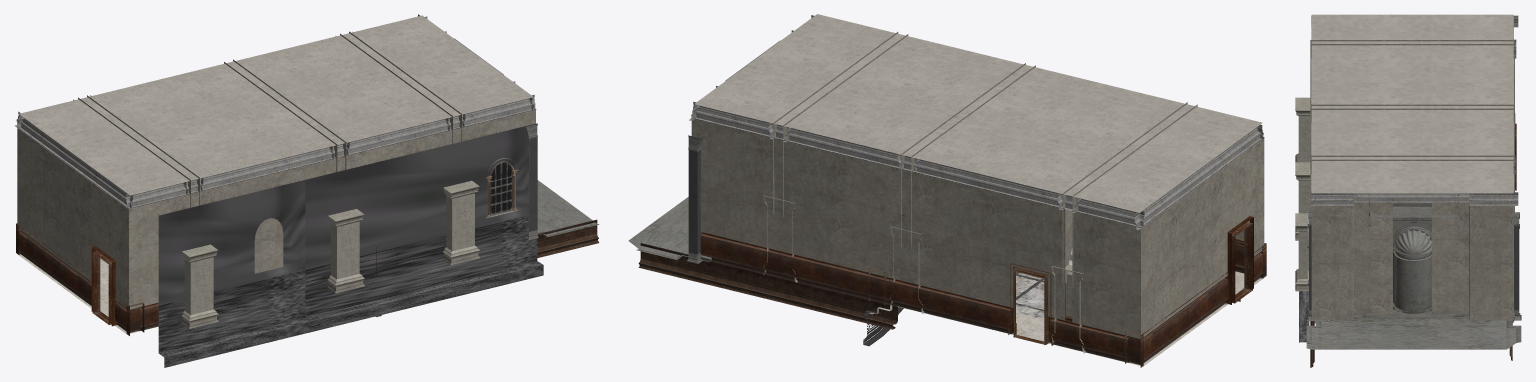
3 views of the same model, side by side, from view 1: azimuth 30°, elevation 25°; view 2: azimuth 150°, elevation 25°; view 3: azimuth 270°, elevation 25° (orthographic). The views are drawn at different scales.
Visible parts, largest first — view 1: LOD_1_Group_0_Sub_7__Wall_Mat, LOD_1_Group_0_Sub_4__st2_police2fLeftCeiling01, LOD_1_Group_0_Sub_1__st4_policeHallWall01_MAT, LOD_1_Group_0_Sub_5__st4_policeHallPillar02_MAT, LOD_1_Group_0_Sub_3__st2_policeHallWall12, LOD_1_Group_0_Sub_2__st2_police2fLeftWall08, LOD_1_Group_0_Sub_12__st2_policeHallStatue01, LOD_1_Group_0_Sub_6__st4_policeHallPillar01_MAT, LOD_1_Group_0_Sub_11__st2_police2fLeftDoor01, LOD_1_Group_0_Sub_9__st2_police1fLeftWindow01_G, LOD_1_Group_0_Sub_19__st4_police1fLeftFloor01, LOD_1_Group_0_Sub_8__st2_police1fLeftPillar01; view 2: LOD_1_Group_0_Sub_1__st4_policeHallWall01_MAT, LOD_1_Group_0_Sub_4__st2_police2fLeftCeiling01, LOD_1_Group_0_Sub_2__st2_police2fLeftWall08, LOD_1_Group_0_Sub_3__st2_policeHallWall12, LOD_1_Group_0_Sub_6__st4_policeHallPillar01_MAT, LOD_1_Group_0_Sub_12__st2_policeHallStatue01, LOD_1_Group_0_Sub_11__st2_police2fLeftDoor01, LOD_1_Group_0_Sub_19__st4_police1fLeftFloor01, LOD_1_Group_0_Sub_18__st2_police1fRightFloor13_Mat, LOD_1_Group_0_Sub_5__st4_policeHallPillar02_MAT, LOD_1_Group_0_Sub_10__st2_police1fLeftDoor02; view 3: LOD_1_Group_0_Sub_4__st2_police2fLeftCeiling01, LOD_1_Group_0_Sub_1__st4_policeHallWall01_MAT, LOD_1_Group_0_Sub_12__st2_policeHallStatue01, LOD_1_Group_0_Sub_3__st2_policeHallWall12, LOD_1_Group_0_Sub_5__st4_policeHallPillar02_MAT, LOD_1_Group_0_Sub_7__Wall_Mat.
Boxes of the visible parts, left/top/right/bottom form: LOD_1_Group_0_Sub_7__Wall_Mat: left=158, top=123, right=543, bottom=367; LOD_1_Group_0_Sub_4__st2_police2fLeftCeiling01: left=19, top=15, right=533, bottom=195; LOD_1_Group_0_Sub_1__st4_policeHallWall01_MAT: left=17, top=31, right=535, bottom=309; LOD_1_Group_0_Sub_5__st4_policeHallPillar02_MAT: left=181, top=180, right=479, bottom=329; LOD_1_Group_0_Sub_3__st2_policeHallWall12: left=14, top=14, right=536, bottom=209; LOD_1_Group_0_Sub_2__st2_police2fLeftWall08: left=16, top=223, right=376, bottom=335; LOD_1_Group_0_Sub_12__st2_policeHallStatue01: left=454, top=38, right=599, bottom=240; LOD_1_Group_0_Sub_6__st4_policeHallPillar01_MAT: left=537, top=219, right=599, bottom=257; LOD_1_Group_0_Sub_11__st2_police2fLeftDoor01: left=91, top=246, right=117, bottom=326; LOD_1_Group_0_Sub_9__st2_police1fLeftWindow01_G: left=490, top=162, right=512, bottom=214; LOD_1_Group_0_Sub_19__st4_police1fLeftFloor01: left=18, top=254, right=157, bottom=334; LOD_1_Group_0_Sub_8__st2_police1fLeftPillar01: left=485, top=158, right=519, bottom=219; LOD_1_Group_0_Sub_1__st4_policeHallWall01_MAT: left=691, top=32, right=1264, bottom=338; LOD_1_Group_0_Sub_4__st2_police2fLeftCeiling01: left=694, top=14, right=1262, bottom=212; LOD_1_Group_0_Sub_2__st2_police2fLeftWall08: left=700, top=228, right=1266, bottom=367; LOD_1_Group_0_Sub_3__st2_policeHallWall12: left=689, top=15, right=1264, bottom=229; LOD_1_Group_0_Sub_6__st4_policeHallPillar01_MAT: left=638, top=243, right=1065, bottom=329; LOD_1_Group_0_Sub_12__st2_policeHallStatue01: left=628, top=40, right=780, bottom=264; LOD_1_Group_0_Sub_11__st2_police2fLeftDoor01: left=1225, top=216, right=1253, bottom=304; LOD_1_Group_0_Sub_19__st4_police1fLeftFloor01: left=877, top=248, right=1263, bottom=366; LOD_1_Group_0_Sub_18__st2_police1fRightFloor13_Mat: left=868, top=272, right=1044, bottom=319; LOD_1_Group_0_Sub_5__st4_policeHallPillar02_MAT: left=763, top=195, right=1085, bottom=353; LOD_1_Group_0_Sub_10__st2_police1fLeftDoor02: left=1008, top=263, right=1053, bottom=345; LOD_1_Group_0_Sub_4__st2_police2fLeftCeiling01: left=1311, top=14, right=1513, bottom=193; LOD_1_Group_0_Sub_1__st4_policeHallWall01_MAT: left=1310, top=40, right=1514, bottom=319; LOD_1_Group_0_Sub_12__st2_policeHallStatue01: left=1306, top=193, right=1521, bottom=349; LOD_1_Group_0_Sub_3__st2_policeHallWall12: left=1311, top=15, right=1518, bottom=206; LOD_1_Group_0_Sub_5__st4_policeHallPillar02_MAT: left=1295, top=97, right=1310, bottom=291; LOD_1_Group_0_Sub_7__Wall_Mat: left=1299, top=291, right=1309, bottom=342.
Size of the model in its own units: 17.19 by 6.29 by 7.84.
